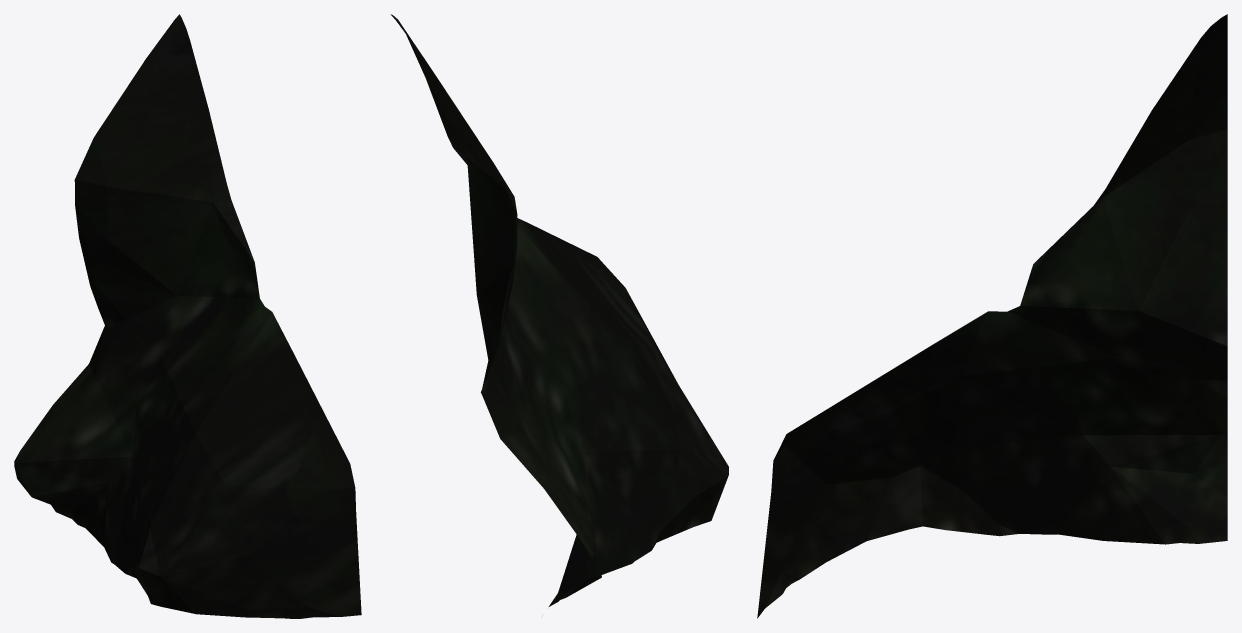
3 views of the same model, side by side, from view 1: azimuth 30°, elevation 25°; view 2: azimuth 150°, elevation 25°; view 3: azimuth 270°, elevation 25° (orthographic). The views are drawn at different scales.
Size of the model in its own units: 0.2822 by 0.7578 by 0.5341.
1 material, 1 textured.
